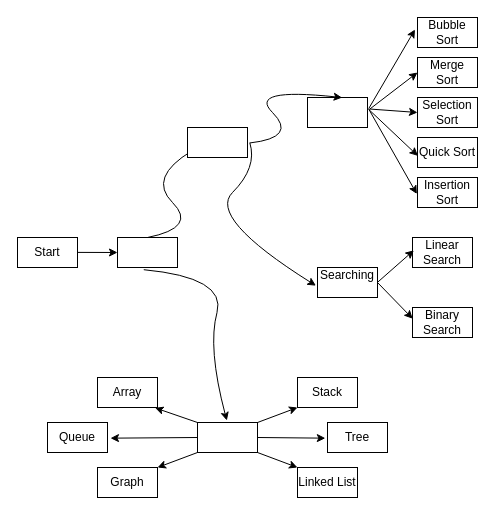
Image size: 495x515. Some labels were removed from this diagram. Here are the shapes that lost their labels. From the top down, the centre of each, then its label:
the point at 337,112: Sorting
the point at 217,142: Algorithms
the point at 147,252: MainMenu
the point at 227,437: Data Strucutres
